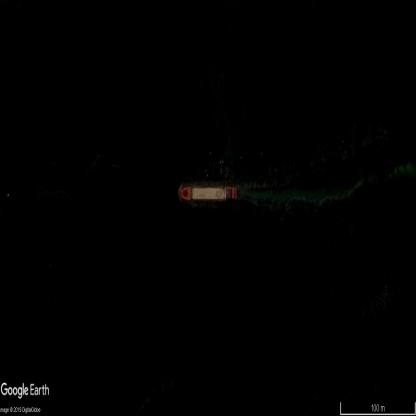ship: (177, 182, 239, 203)
